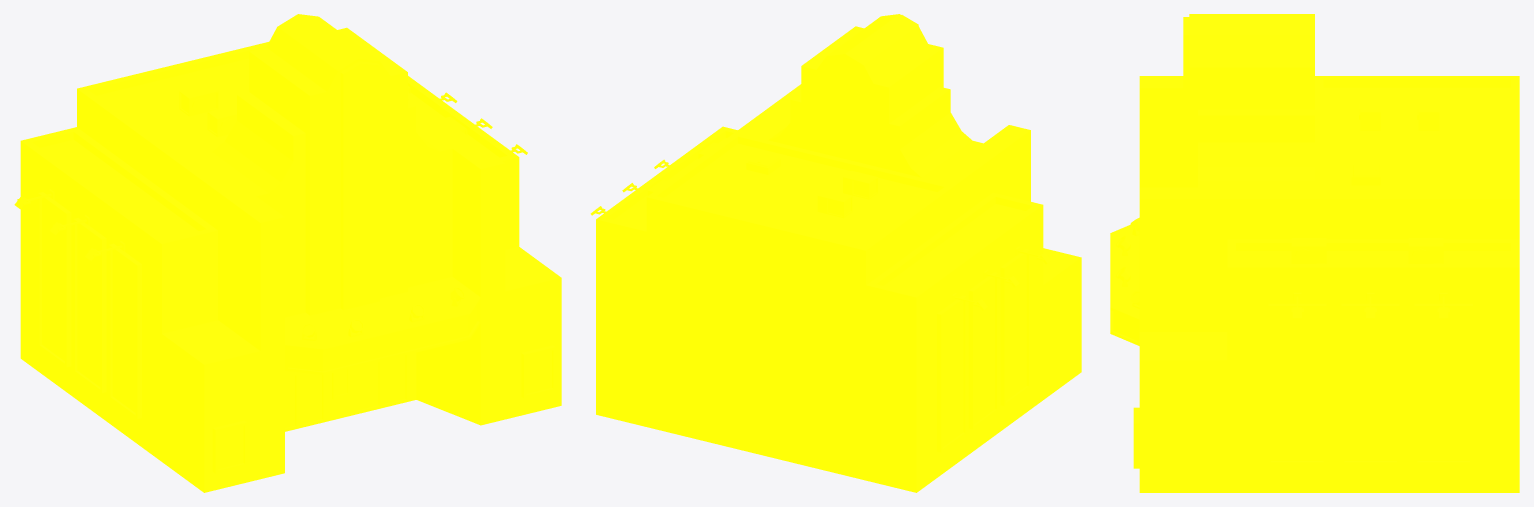
The model's file is building-cinema.glb.
3 views of the same model, side by side, from view 1: azimuth 30°, elevation 25°; view 2: azimuth 150°, elevation 25°; view 3: azimuth 270°, elevation 25° (orthographic). The views are drawn at different scales.
Visible parts, largest first — view 1: building-cinema; view 2: building-cinema; view 3: building-cinema.
Part boxes in pixels (bbox=[...]): building-cinema: bbox=[14, 14, 561, 492]; building-cinema: bbox=[590, 14, 1081, 492]; building-cinema: bbox=[1110, 14, 1519, 492].
Size of the model in its own units: 17.92 by 14.58 by 14.
Materials: 1 (1 with a texture image).
